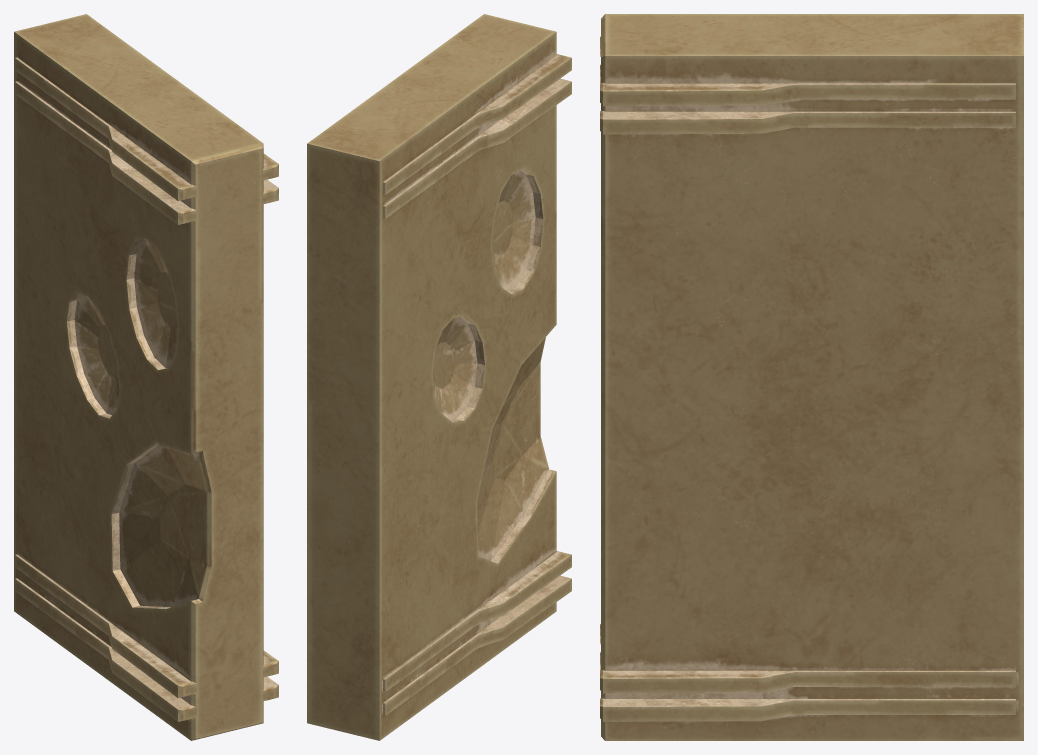
File: Left paw door ruin.FBX
3 views of the same model, side by side, from view 1: azimuth 30°, elevation 25°; view 2: azimuth 150°, elevation 25°; view 3: azimuth 270°, elevation 25° (orthographic). The views are drawn at different scales.
Visible parts, largest first — view 1: door left; view 2: door left; view 3: door left.
Part boxes in pixels (x1=…): door left: x1=14, y1=14, x2=278, y2=740; door left: x1=307, y1=14, x2=571, y2=740; door left: x1=600, y1=14, x2=1023, y2=740.
Size of the model in its own units: 459 by 2516 by 1410.
Materials: 1 (1 with a texture image).
